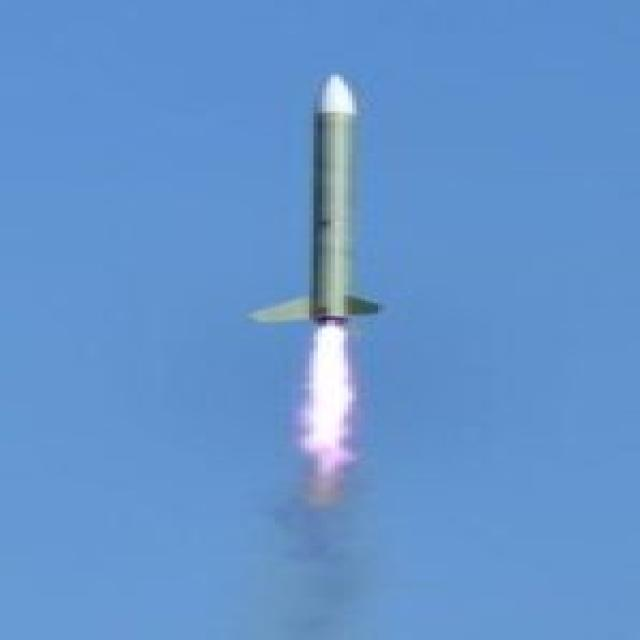Rocket: (239, 71, 403, 334)
